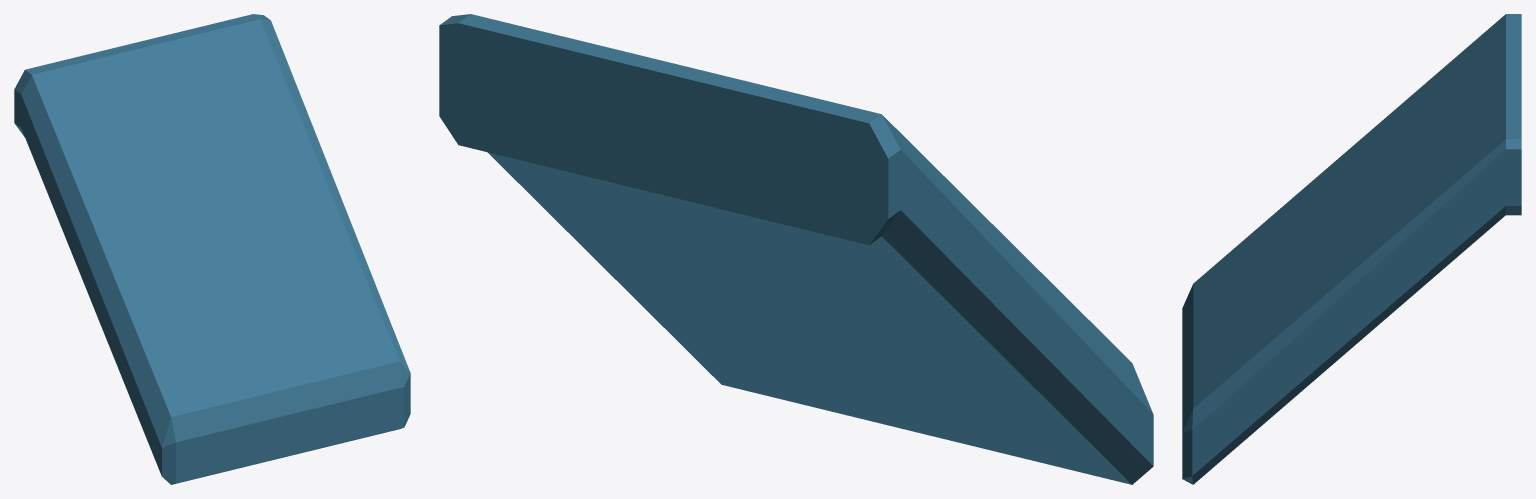
Rendered from MirrorOnly.gltf.
The picture shows the model from 3 angles, left to right: view 1: azimuth 30°, elevation 25°; view 2: azimuth 150°, elevation 25°; view 3: azimuth 270°, elevation 25°; orthographic projection. The views are drawn at different scales.
Parts seen in each view (by area): view 1: Cube.020; view 2: Cube.020; view 3: Cube.020.
Part boxes in pixels (x1,y1,x2,y2): Cube.020: [14, 14, 410, 484]; Cube.020: [439, 14, 1153, 484]; Cube.020: [1182, 14, 1521, 484].
Bounding box in the file's own units: 2 × 2.36 × 2.1.
Materials: 1 (1 with a texture image).
